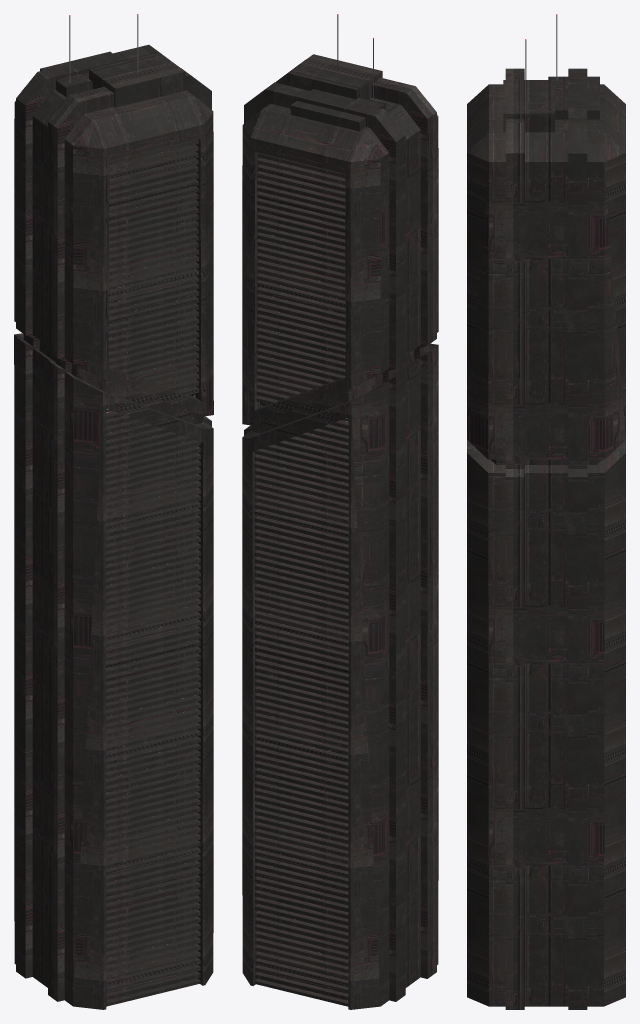
The model's file is cyberpunk-hightower-small.glb.
3 renders of one model, left to right at view 1: azimuth 30°, elevation 25°; view 2: azimuth 150°, elevation 25°; view 3: azimuth 270°, elevation 25°, orthographic.
Visible parts, largest first — view 1: Building_1.001; view 2: Building_1.001; view 3: Building_1.001.
Boxes of the visible parts, <box> form: Building_1.001: <box>14,14,213,1009</box>; Building_1.001: <box>242,14,438,1009</box>; Building_1.001: <box>467,14,625,1009</box>.
Bounding box in the file's own units: 94.92 × 563 × 86.29.
4 materials, 2 textured.
